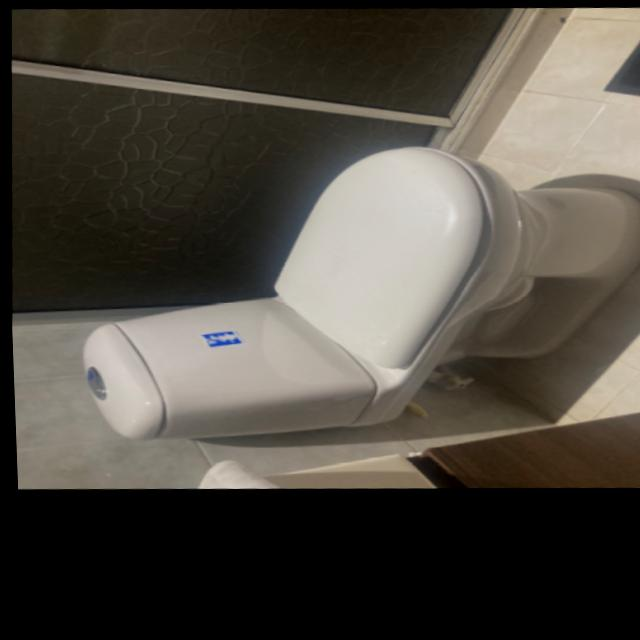toilet: (71, 130, 640, 462)
